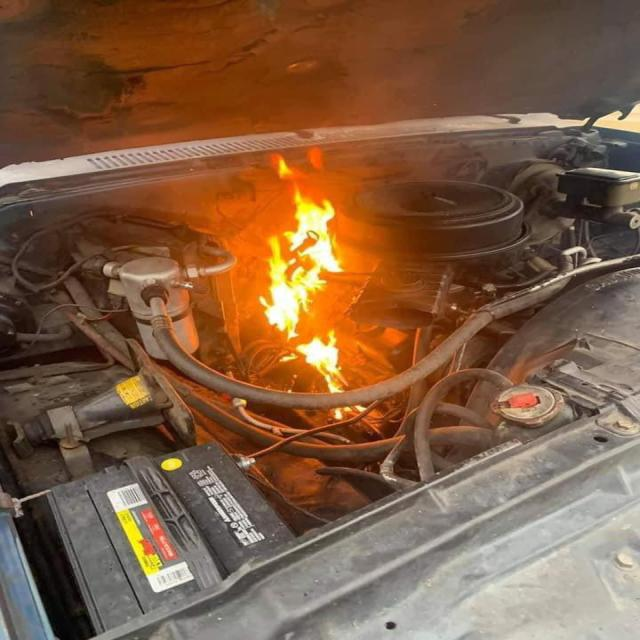fire: (260, 235, 327, 339), (283, 186, 343, 271), (295, 331, 347, 393)
